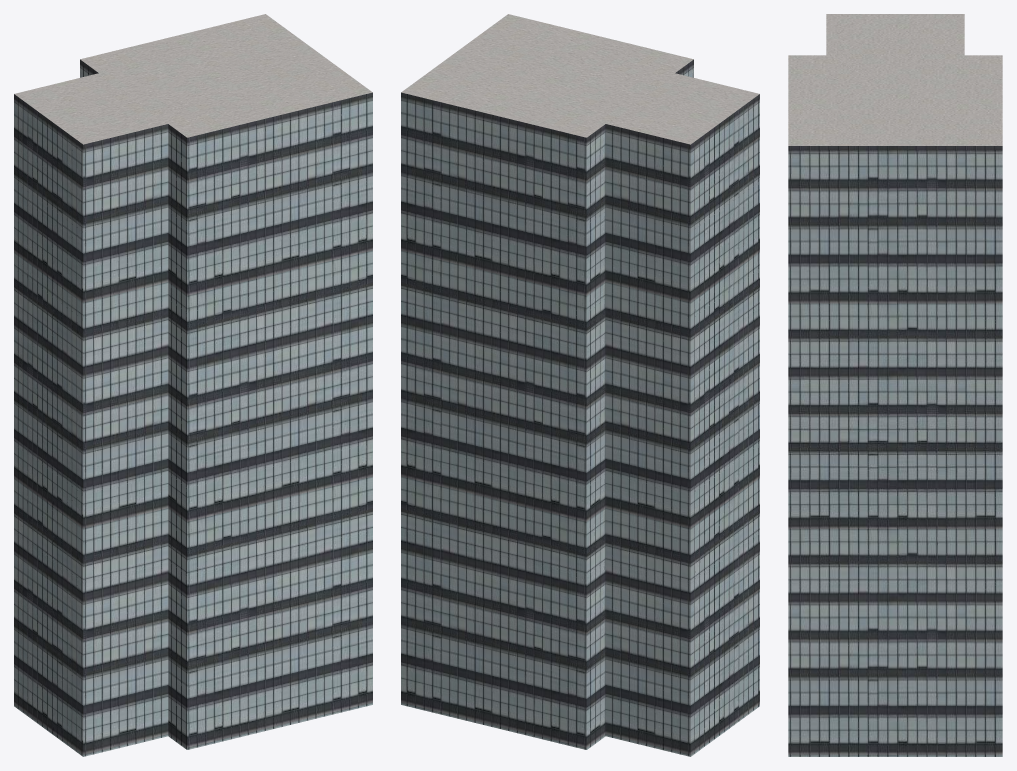
Rendered from building_048.fbx.
3 views of the same model, side by side, from view 1: azimuth 30°, elevation 25°; view 2: azimuth 150°, elevation 25°; view 3: azimuth 270°, elevation 25° (orthographic).
Visible parts, largest first — view 1: building_048; view 2: building_048; view 3: building_048.
Boxes of the visible parts, bbox=[...] form: building_048: bbox=[14, 14, 372, 756]; building_048: bbox=[401, 14, 759, 756]; building_048: bbox=[788, 14, 1002, 756].
Size of the model in its own units: 1457 by 3150 by 1000.
